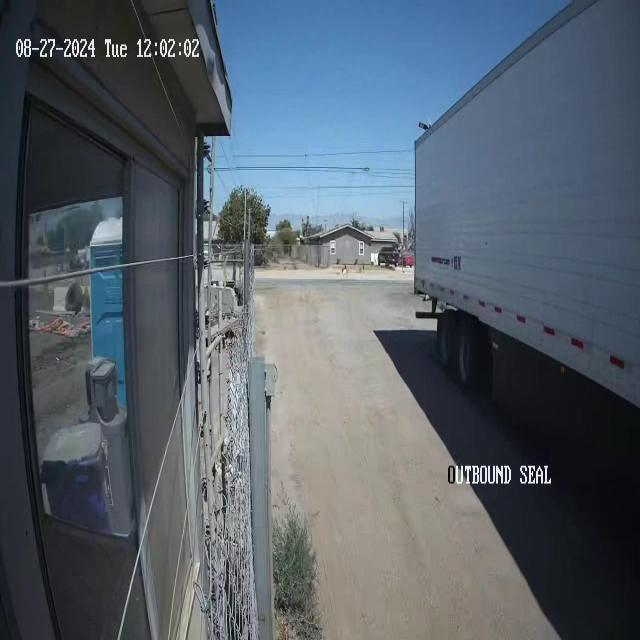TRUCK_IN: (412, 1, 640, 414)
